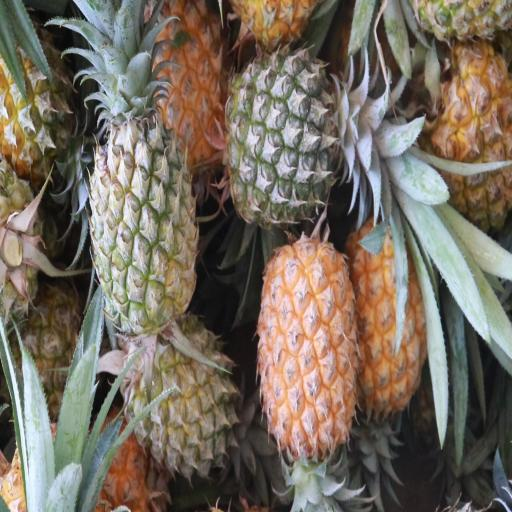------------------------------: (90, 123, 198, 325), (127, 331, 236, 472)
Pineapple - v8 v1: (256, 248, 356, 454), (351, 221, 433, 413), (422, 49, 512, 215), (139, 0, 230, 163)
